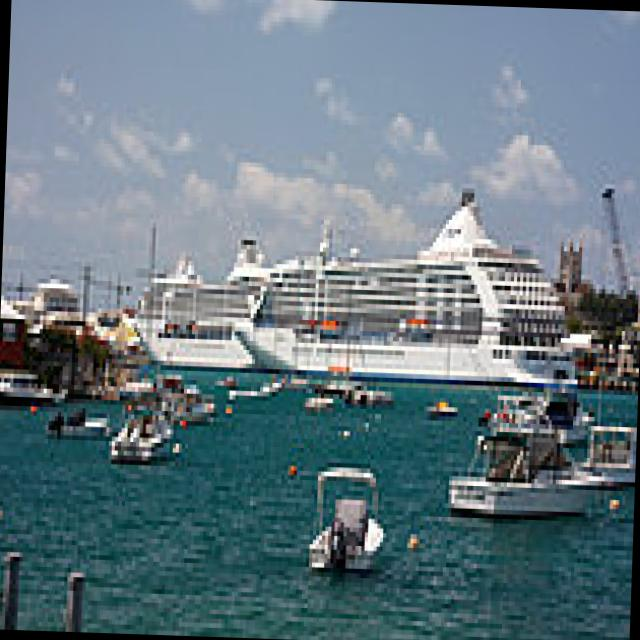boat: (246, 271, 584, 390), (438, 410, 606, 527), (312, 466, 391, 576), (105, 390, 187, 466), (314, 339, 382, 407)
